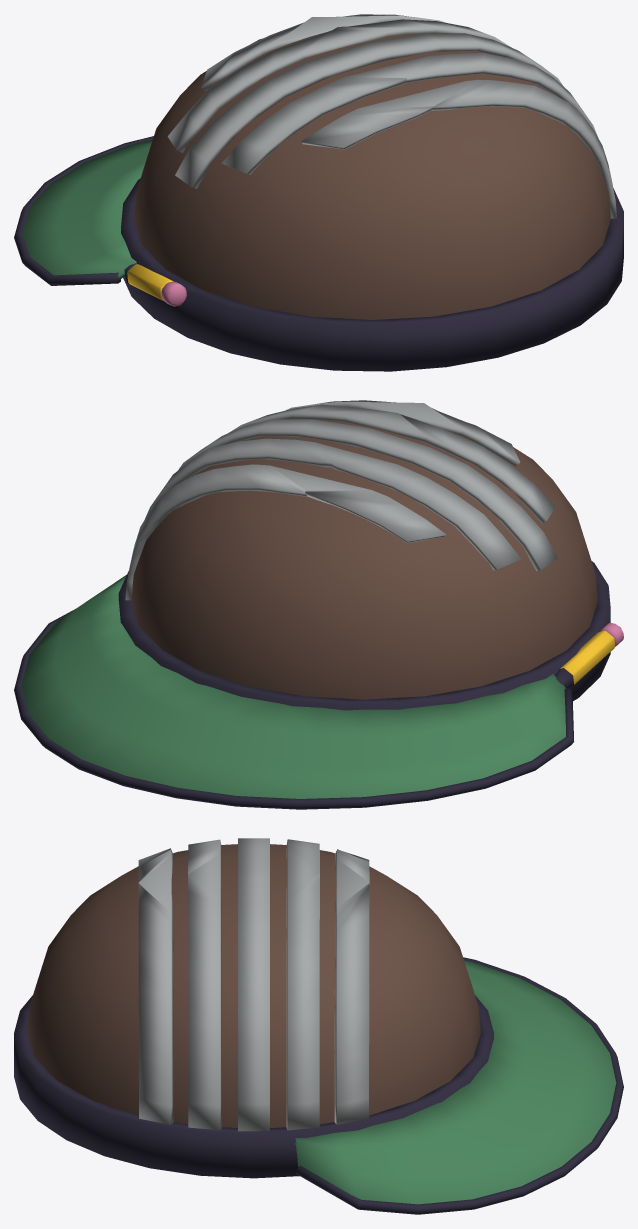
The model's file is hat_eyeshade.glb.
3 renders of one model, top to bottom at view 1: azimuth 30°, elevation 25°; view 2: azimuth 150°, elevation 25°; view 3: azimuth 270°, elevation 25°, orthographic. The views are drawn at different scales.
Visible parts, largest first — view 1: Hat; view 2: Hat; view 3: Hat.
Part boxes in pixels (bbox=[...]): Hat: bbox=[14, 14, 623, 371]; Hat: bbox=[14, 400, 623, 809]; Hat: bbox=[14, 838, 623, 1214].
Size of the model in its own units: 0.7958 by 0.3398 by 0.8209.
